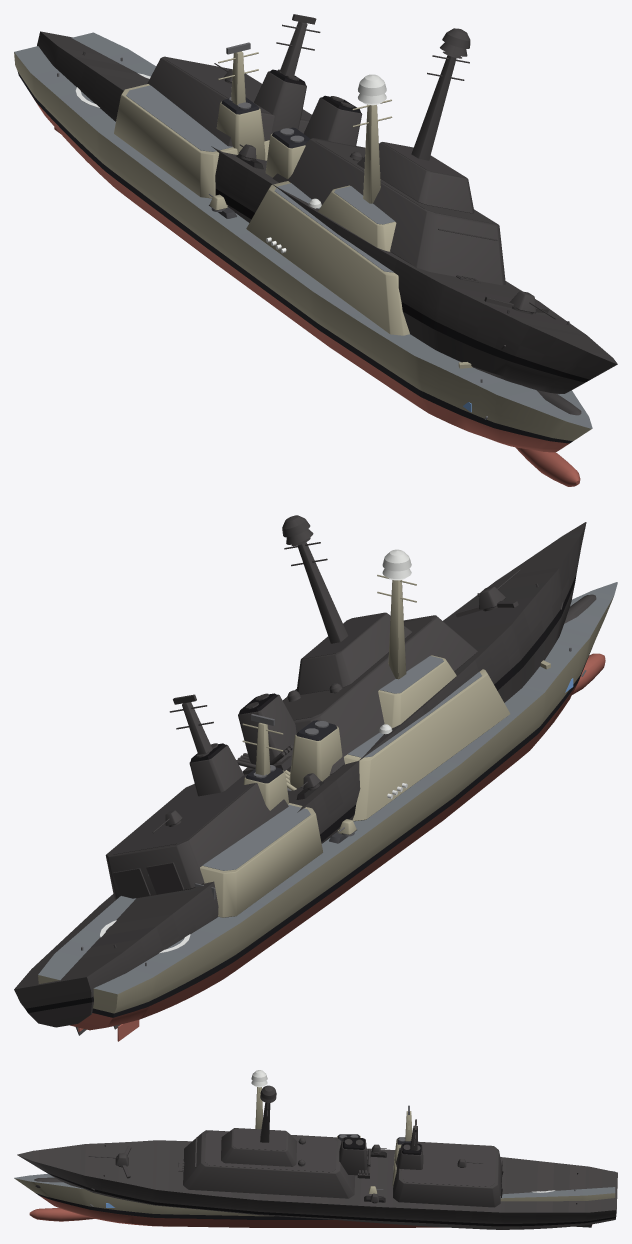
Rendered from asFrigate__fremm_gp_italy.glb.
The picture shows the model from 3 angles, top to bottom: view 1: azimuth 30°, elevation 25°; view 2: azimuth 150°, elevation 25°; view 3: azimuth 270°, elevation 25°; orthographic projection. The views are drawn at different scales.
Parts seen in each view (by area): view 1: Hull_Mesh, Wreck; view 2: Hull_Mesh, Wreck; view 3: Wreck, Hull_Mesh.
Part boxes in pixels (x1,y1,x2,y2): Hull_Mesh: [14, 32, 592, 486]; Wreck: [37, 14, 617, 415]; Hull_Mesh: [38, 549, 617, 1041]; Wreck: [14, 515, 596, 1035]; Wreck: [17, 1085, 617, 1229]; Hull_Mesh: [14, 1070, 615, 1227].
Size of what is drawn, in the model's own units: 26.74 by 44.39 by 151.
